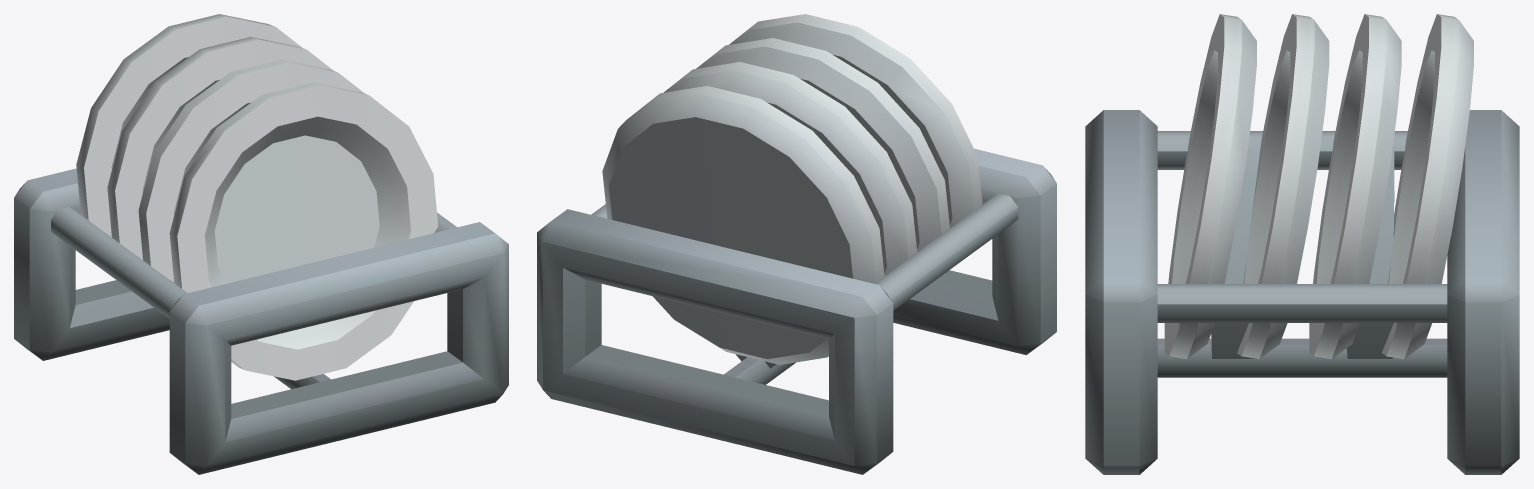
Rendered from kay-escorredor.gltf.
3 renders of one model, left to right at view 1: azimuth 30°, elevation 25°; view 2: azimuth 150°, elevation 25°; view 3: azimuth 270°, elevation 25°, orthographic. The views are drawn at different scales.
Parts seen in each view (by area): view 1: dishrack_plates; view 2: dishrack_plates; view 3: dishrack_plates.
Boxes of the visible parts, left/top/right/bottom form: dishrack_plates: left=14, top=14, right=508, bottom=474; dishrack_plates: left=537, top=14, right=1056, bottom=474; dishrack_plates: left=1085, top=14, right=1519, bottom=474.
Size of the model in its own units: 0.78 by 0.7118 by 0.78.
1 material, 1 textured.
